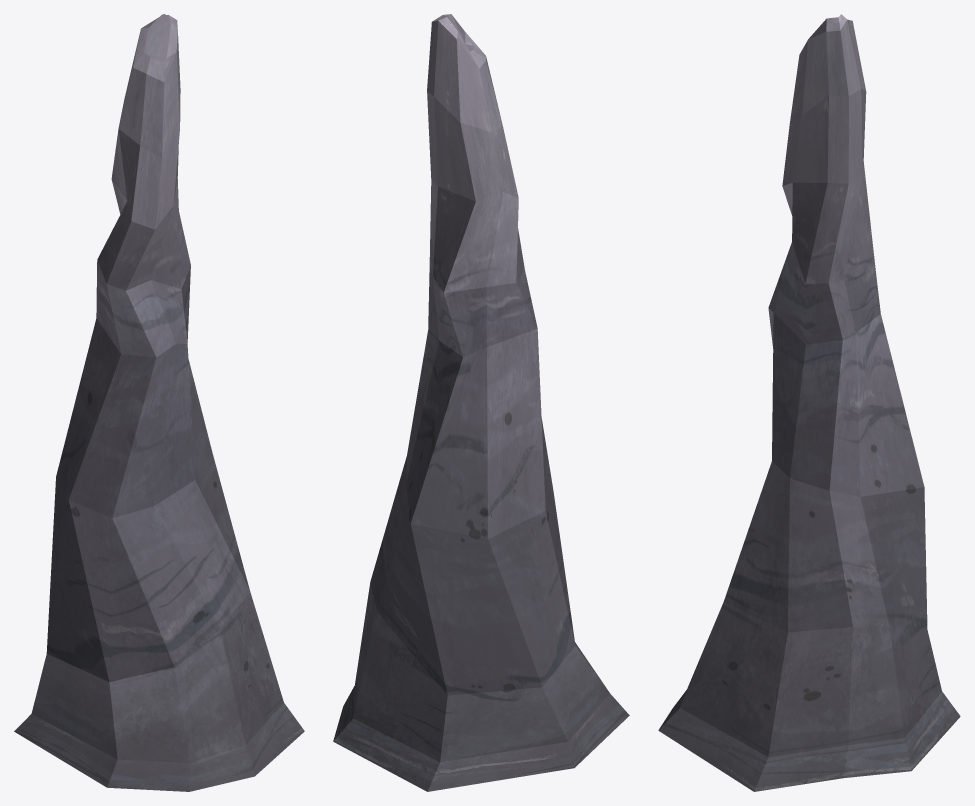
File: spire_1_004.fbx
The picture shows the model from 3 angles, left to right: view 1: azimuth 30°, elevation 25°; view 2: azimuth 150°, elevation 25°; view 3: azimuth 270°, elevation 25°; orthographic projection. The views are drawn at different scales.
Parts seen in each view (by area): view 1: spire 1.004; view 2: spire 1.004; view 3: spire 1.004.
Part boxes in pixels (left/top/right/bottom): spire 1.004: left=14, top=14, right=304, bottom=791; spire 1.004: left=333, top=14, right=629, bottom=791; spire 1.004: left=658, top=14, right=960, bottom=791.
Bounding box in the file's own units: 889 × 2545 × 959.
